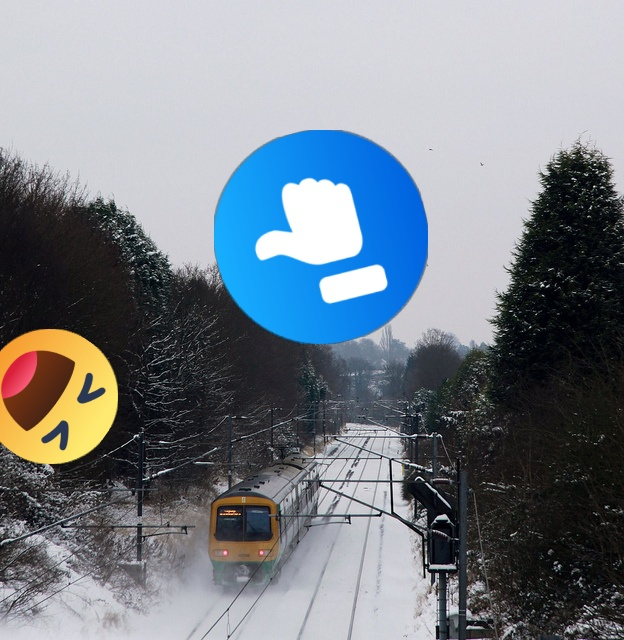haha: (0, 329, 118, 464)
like: (214, 130, 428, 344)
